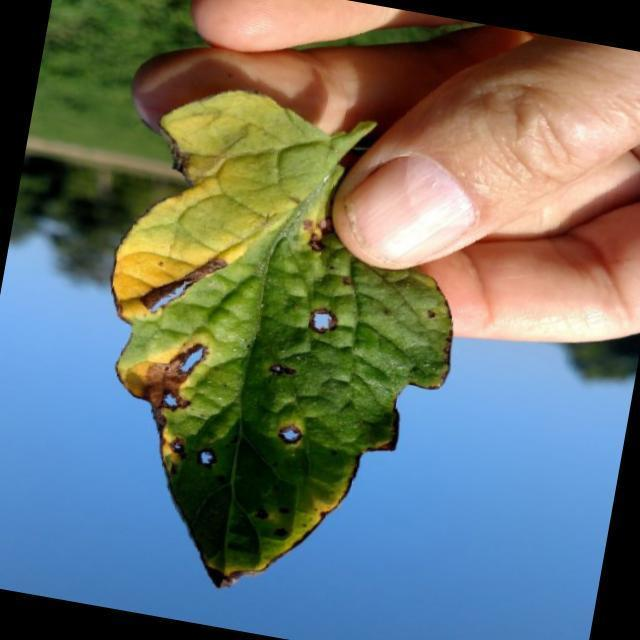Bacterial Spot: (99, 198, 442, 575)
